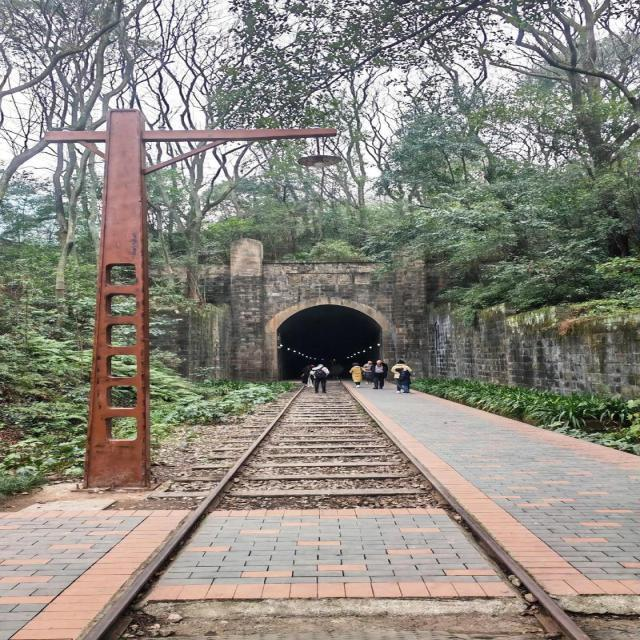people: (388, 362, 416, 394), (304, 363, 331, 395), (371, 363, 389, 391), (349, 359, 364, 391)
